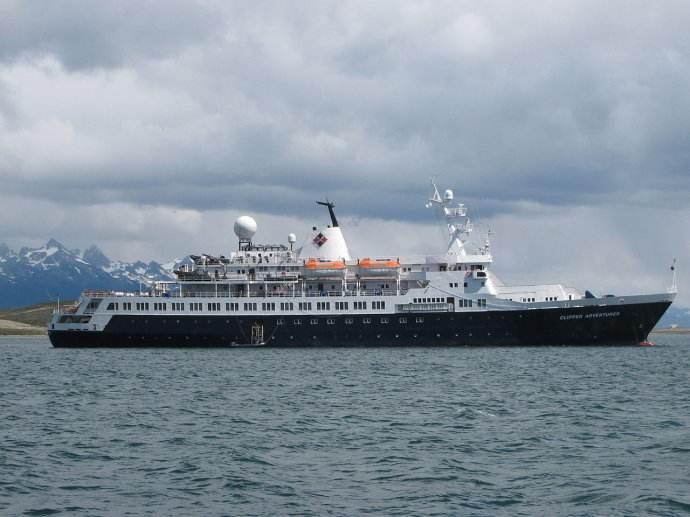youlun: (46, 191, 679, 354)
